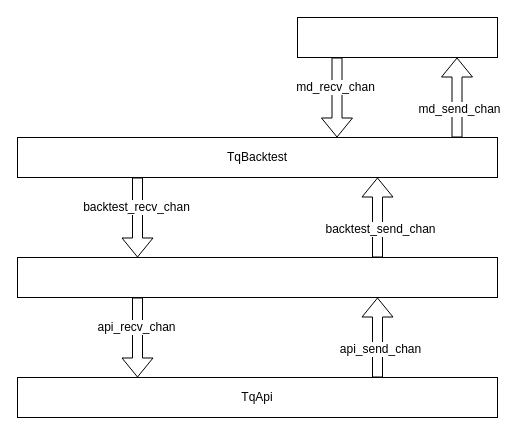
Image size: 518x435. Some labels were removed from this diagram. Each missing label, with the centre of its shape:
TqSim: point (257, 277)
Websocket Client To OpenMdGateway: point (397, 37)
